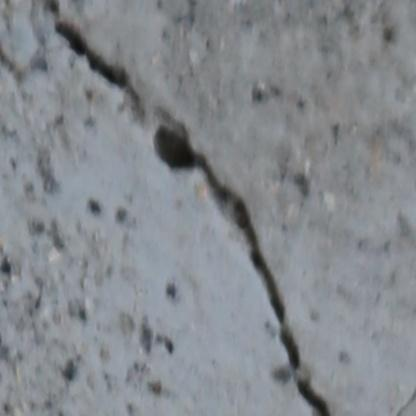Cracks: (151, 104, 346, 416), (51, 19, 134, 94), (379, 386, 416, 416)
